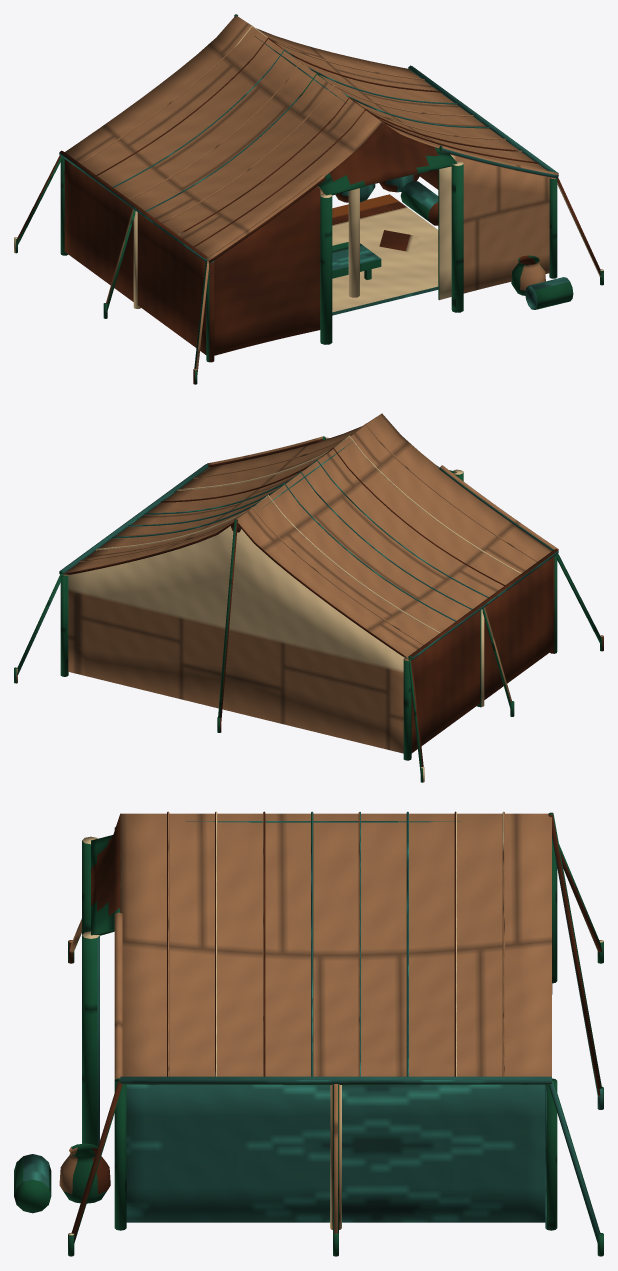
3 renders of one model, top to bottom at view 1: azimuth 30°, elevation 25°; view 2: azimuth 150°, elevation 25°; view 3: azimuth 270°, elevation 25°, orthographic. The views are drawn at different scales.
Parts seen in each view (by area): view 1: garrison_part_0002, garrison_part_0003, garrison_part_0001, garrison_part_0000, garrison_part_0004; view 2: garrison_part_0003, garrison_part_0002, garrison_part_0001; view 3: garrison_part_0002, garrison_part_0003, garrison_part_0001, garrison_part_0004, garrison_part_0000.
Boxes of the visible parts, <box> form: garrison_part_0002: <box>16,14,600,374</box>; garrison_part_0003: <box>64,146,558,355</box>; garrison_part_0001: <box>60,36,557,362</box>; garrison_part_0000: <box>14,194,603,384</box>; garrison_part_0004: <box>332,173,573,309</box>; garrison_part_0003: <box>67,436,558,753</box>; garrison_part_0002: <box>17,413,601,772</box>; garrison_part_0001: <box>60,437,557,760</box>; garrison_part_0002: <box>69,811,602,1243</box>; garrison_part_0003: <box>114,827,545,1222</box>; garrison_part_0001: <box>82,821,557,1230</box>; garrison_part_0004: <box>14,1143,110,1213</box>; garrison_part_0000: <box>68,940,603,1256</box>.
Bounding box in the file's own units: 599 × 281 × 506.
